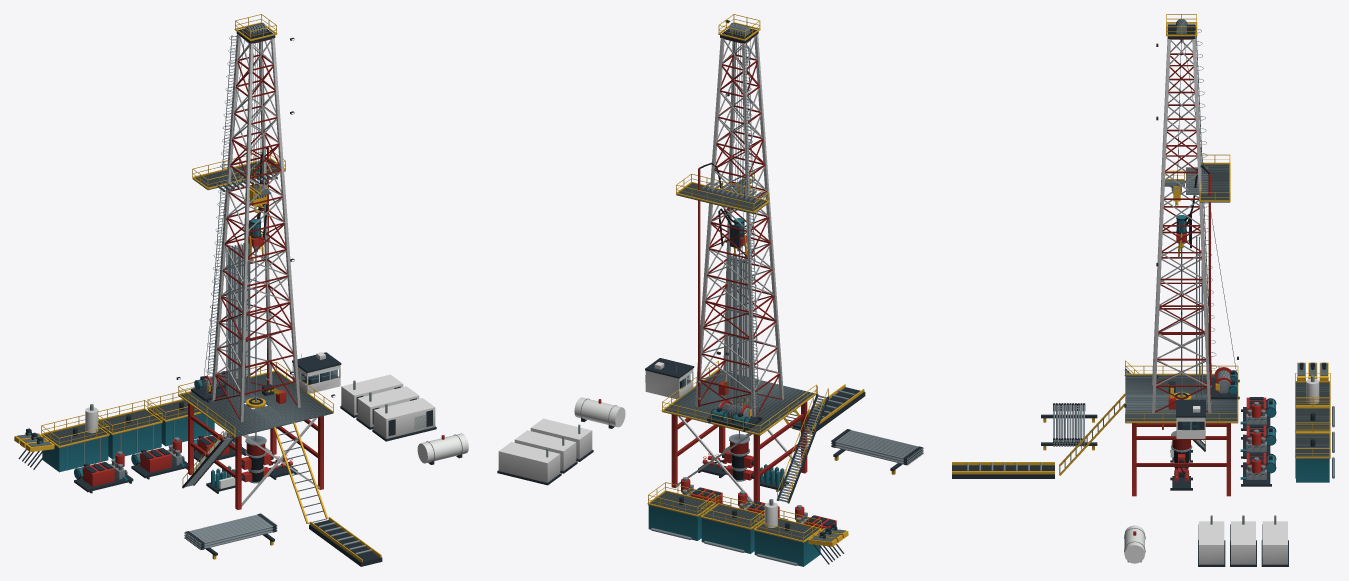
The model's file is land_1500_ac_double_lodm.glb.
The picture shows the model from 3 angles, left to right: view 1: azimuth 30°, elevation 25°; view 2: azimuth 150°, elevation 25°; view 3: azimuth 270°, elevation 25°; orthographic projection.
Visible parts, largest first — view 1: derrick_surface_white, derrick_surface_red, drill_floor_surface_deck, generators_surface_white, mud_tanks_surface_blue, setback_pipe_surface_steel, substructure_surface_red, mud_tanks_surface_deck, mud_tanks_surface_yellow, pipe_rack_surface_steel, ladder_surface_steel, drill_floor_surface_steel (+12 smaller); view 2: derrick_surface_white, derrick_surface_red, generators_surface_white, mud_tanks_surface_blue, drill_floor_surface_deck, setback_pipe_surface_steel, mud_tanks_surface_deck, substructure_surface_red, mud_tanks_surface_yellow, ladder_surface_steel, pipe_rack_surface_steel, mud_tanks_surface_steel (+14 smaller); view 3: derrick_surface_white, generators_surface_white, drill_floor_surface_deck, derrick_surface_red, mud_tanks_surface_deck, drill_floor_surface_steel, substructure_surface_red, mud_tanks_surface_steel, mud_tanks_surface_yellow, pipe_rack_surface_steel, catwalk_surface_dark, racking_board_surface_steel (+13 smaller).
Part boxes in pixels (left/top/right/bottom): derrick_surface_white: left=211, top=34, right=300, bottom=421; derrick_surface_red: left=213, top=38, right=296, bottom=419; drill_floor_surface_deck: left=181, top=372, right=333, bottom=437; generators_surface_white: left=341, top=374, right=435, bottom=438; mud_tanks_surface_blue: left=42, top=410, right=214, bottom=472; setback_pipe_surface_steel: left=226, top=243, right=250, bottom=401; substructure_surface_red: left=188, top=403, right=323, bottom=509; mud_tanks_surface_deck: left=44, top=400, right=201, bottom=448; mud_tanks_surface_yellow: left=41, top=389, right=201, bottom=447; pipe_rack_surface_steel: left=184, top=513, right=277, bottom=549; ladder_surface_steel: left=204, top=35, right=237, bottom=397; drill_floor_surface_steel: left=180, top=372, right=331, bottom=435; derrick_surface_white: left=694, top=34, right=783, bottom=416; derrick_surface_red: left=700, top=36, right=781, bottom=416; generators_surface_white: left=498, top=418, right=592, bottom=482; mud_tanks_surface_blue: left=648, top=505, right=820, bottom=566; drill_floor_surface_deck: left=663, top=370, right=813, bottom=435; setback_pipe_surface_steel: left=727, top=255, right=751, bottom=408; mud_tanks_surface_deck: left=648, top=492, right=818, bottom=543; substructure_surface_red: left=671, top=401, right=807, bottom=502; mud_tanks_surface_yellow: left=647, top=482, right=821, bottom=542; ladder_surface_steel: left=741, top=44, right=759, bottom=417; pipe_rack_surface_steel: left=831, top=429, right=923, bottom=465; mud_tanks_surface_steel: left=651, top=492, right=814, bottom=565; derrick_surface_white: left=1152, top=38, right=1211, bottom=412; generators_surface_white: left=1199, top=521, right=1287, bottom=564; drill_floor_surface_deck: left=1125, top=375, right=1237, bottom=423; derrick_surface_red: left=1154, top=39, right=1208, bottom=412; mud_tanks_surface_deck: left=1295, top=382, right=1330, bottom=458; drill_floor_surface_steel: left=1125, top=375, right=1237, bottom=419; substructure_surface_red: left=1132, top=423, right=1230, bottom=496; mud_tanks_surface_steel: left=1295, top=383, right=1334, bottom=478; mud_tanks_surface_yellow: left=1295, top=373, right=1330, bottom=458; pipe_rack_surface_steel: left=1053, top=403, right=1084, bottom=446; catwalk_surface_dark: left=952, top=465, right=1054, bottom=478; racking_board_surface_steel: left=1186, top=164, right=1228, bottom=199.
Bounding box in the file's own units: 43.62 × 53.71 × 40.86.
